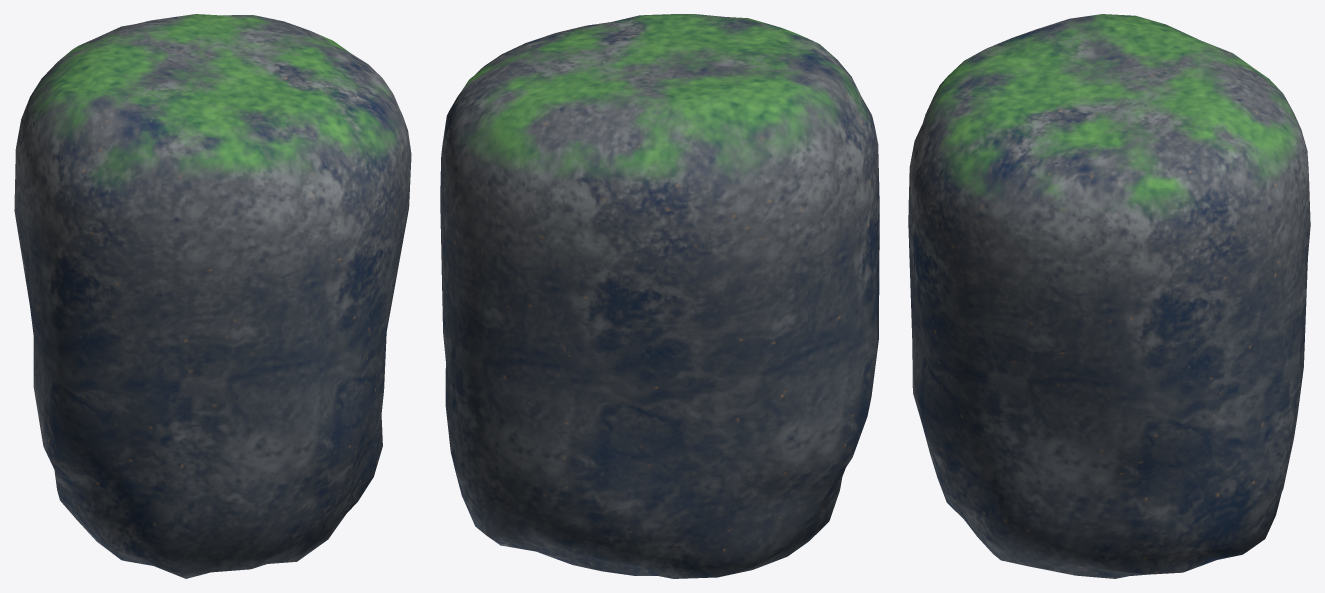
Rendered from rock_b.glb.
The picture shows the model from 3 angles, left to right: view 1: azimuth 30°, elevation 25°; view 2: azimuth 150°, elevation 25°; view 3: azimuth 270°, elevation 25°; orthographic projection. The views are drawn at different scales.
Parts seen in each view (by area): view 1: Rock; view 2: Rock; view 3: Rock.
Boxes of the visible parts, box(x1,y1,x2,y2) form: Rock: box(14, 14, 411, 578); Rock: box(440, 14, 879, 578); Rock: box(908, 14, 1310, 578).
Bounding box in the file's own units: 2.02 × 2.58 × 2.
Materials: 1 (1 with a texture image).
